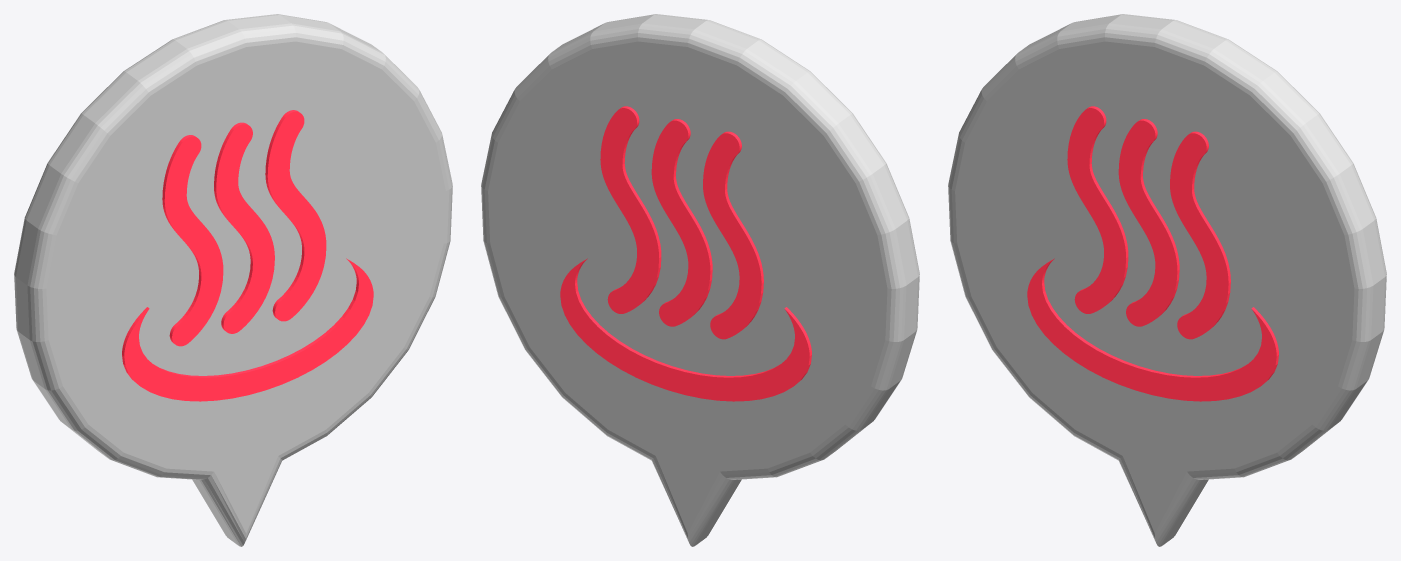
Rendered from hot_springs.glb.
3 views of the same model, side by side, from view 1: azimuth 30°, elevation 25°; view 2: azimuth 150°, elevation 25°; view 3: azimuth 330°, elevation 25° (orthographic).
Parts seen in each view (by area): view 1: EmotionBubble; view 2: EmotionBubble; view 3: EmotionBubble.
Part boxes in pixels (x1,y1,x2,y2): EmotionBubble: [14, 14, 452, 546]; EmotionBubble: [481, 14, 919, 546]; EmotionBubble: [948, 14, 1386, 546].
Size of the model in its own units: 5.29 by 6.16 by 0.688.
